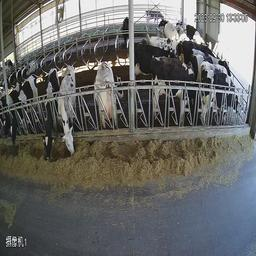cow: (149, 55, 200, 130), (6, 68, 37, 170), (204, 66, 245, 134), (57, 57, 81, 172), (40, 57, 62, 174), (95, 54, 125, 139), (135, 35, 183, 78), (165, 10, 201, 51), (192, 42, 218, 76)
